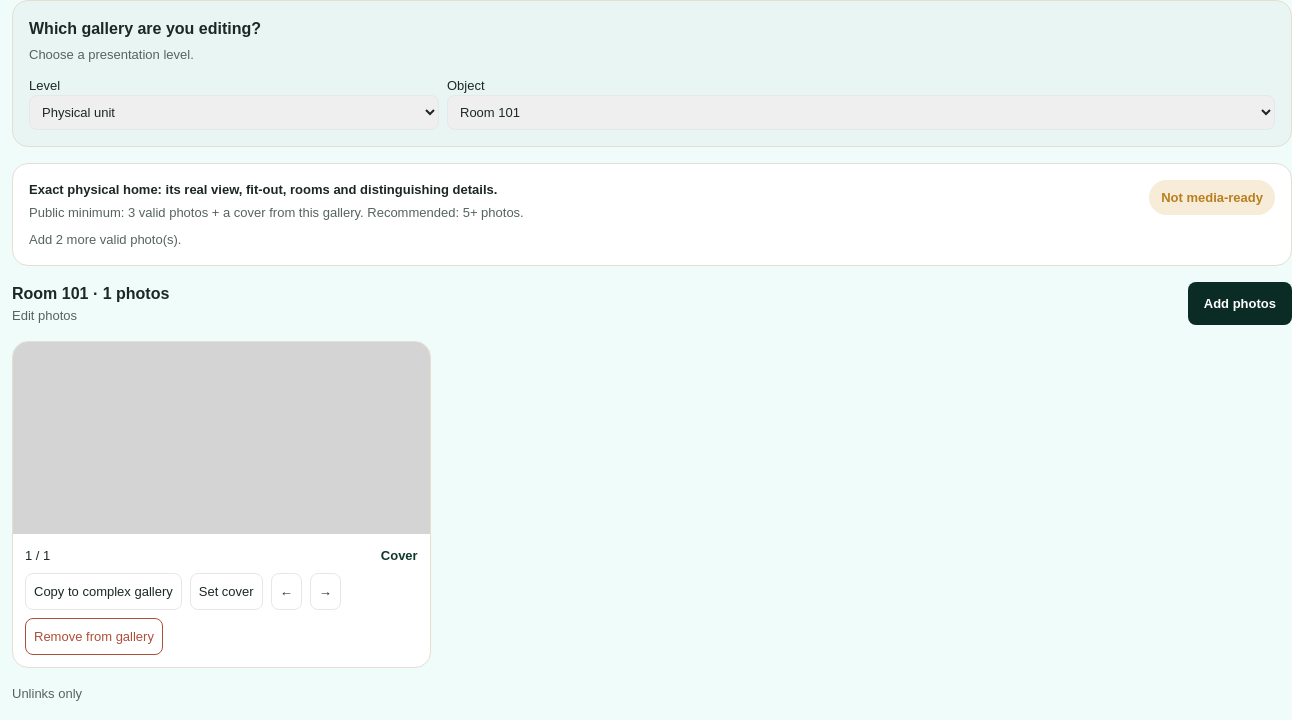
Test case: copy existing unit photo to its parent complex › surfaces authorization errors and keeps the source available
The image size is (1292, 720).
What coordinates should you click on to do the following:
click the button "Copy to complex gallery"
I would click on:
 (103, 592)
Its box is left=25, top=573, right=182, bottom=610.
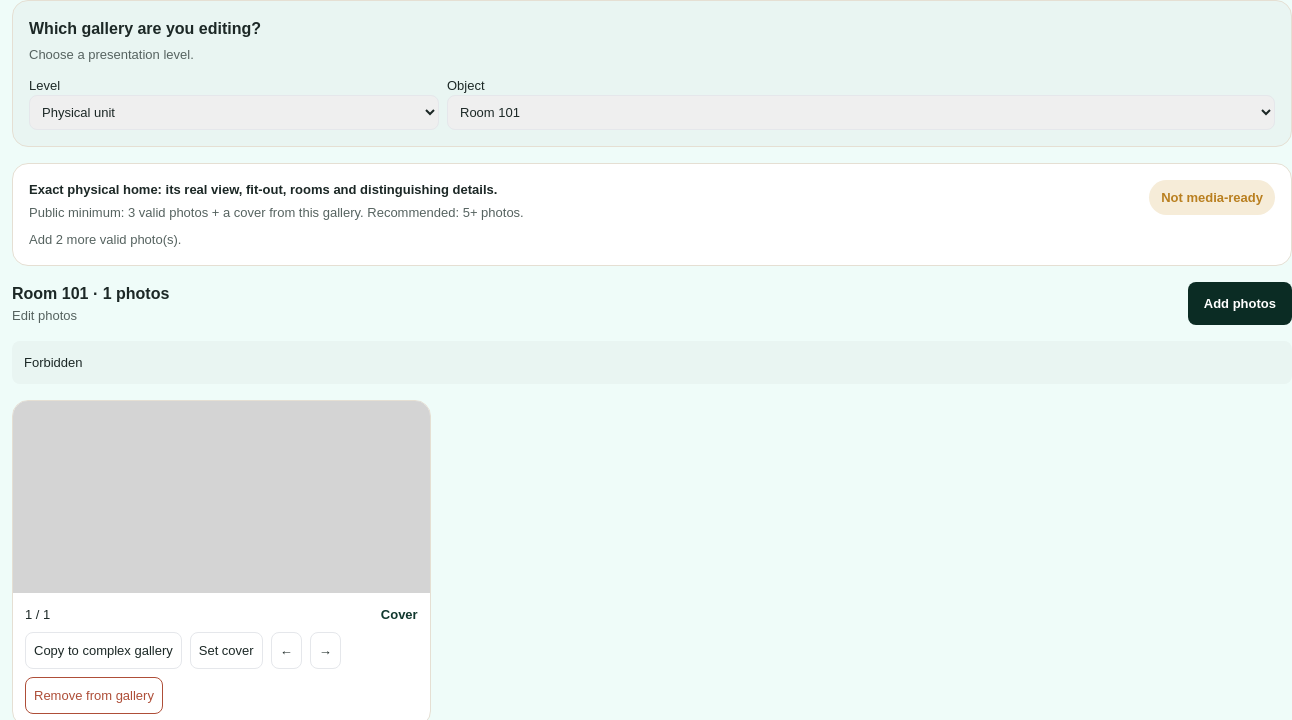
Expected: the button "Copy to complex gallery" is enabled, left=25, top=632, right=182, bottom=669
Expected: the text "Forbidden" is shown, left=12, top=341, right=1291, bottom=384
